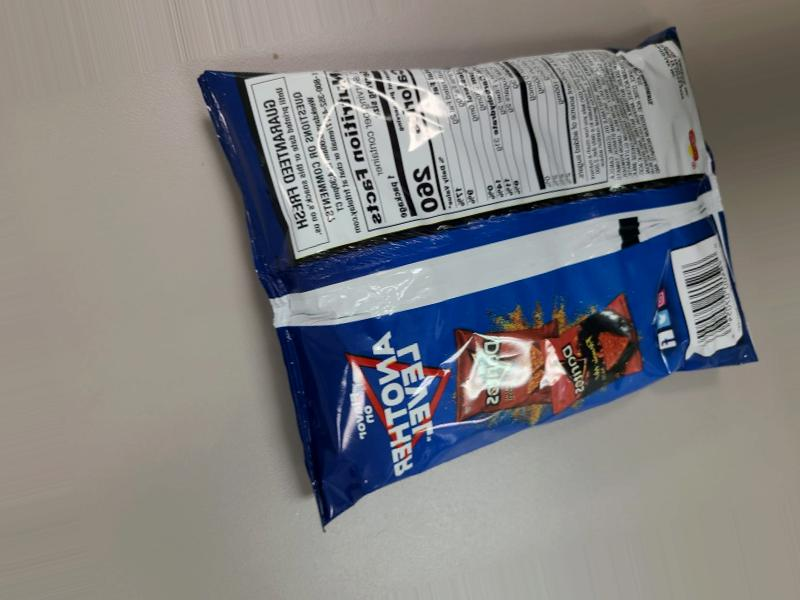doritos: (284, 0, 690, 529)
